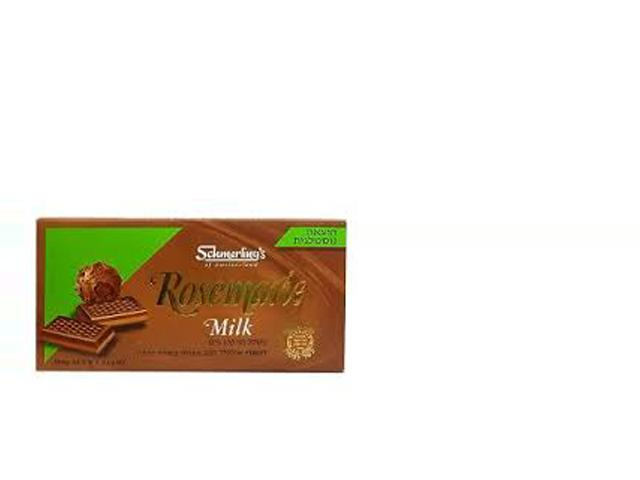chocolate: (31, 205, 355, 377)
